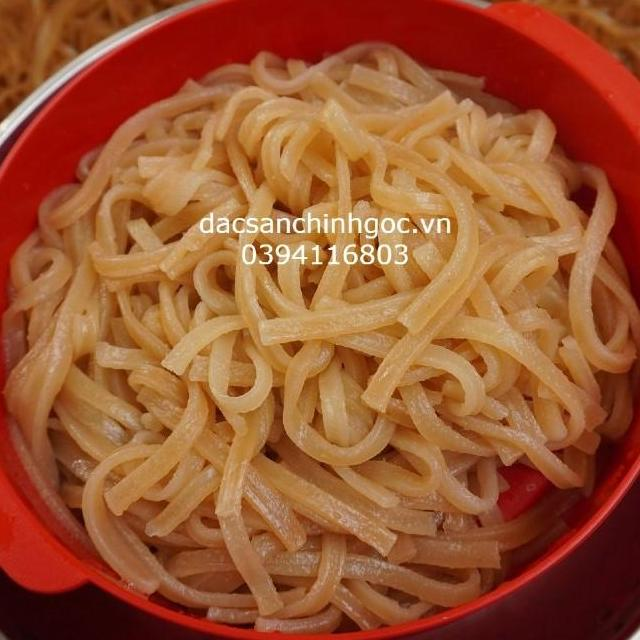mi: (0, 39, 640, 639)
